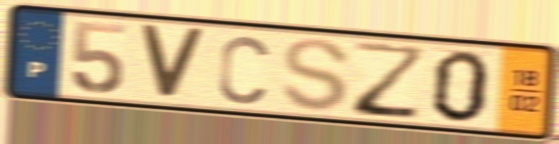0: (430, 48, 494, 126)
5: (69, 18, 129, 96)
C: (215, 32, 272, 107)
S: (279, 35, 354, 114)
V: (136, 21, 210, 104)
Z: (351, 39, 429, 123)
